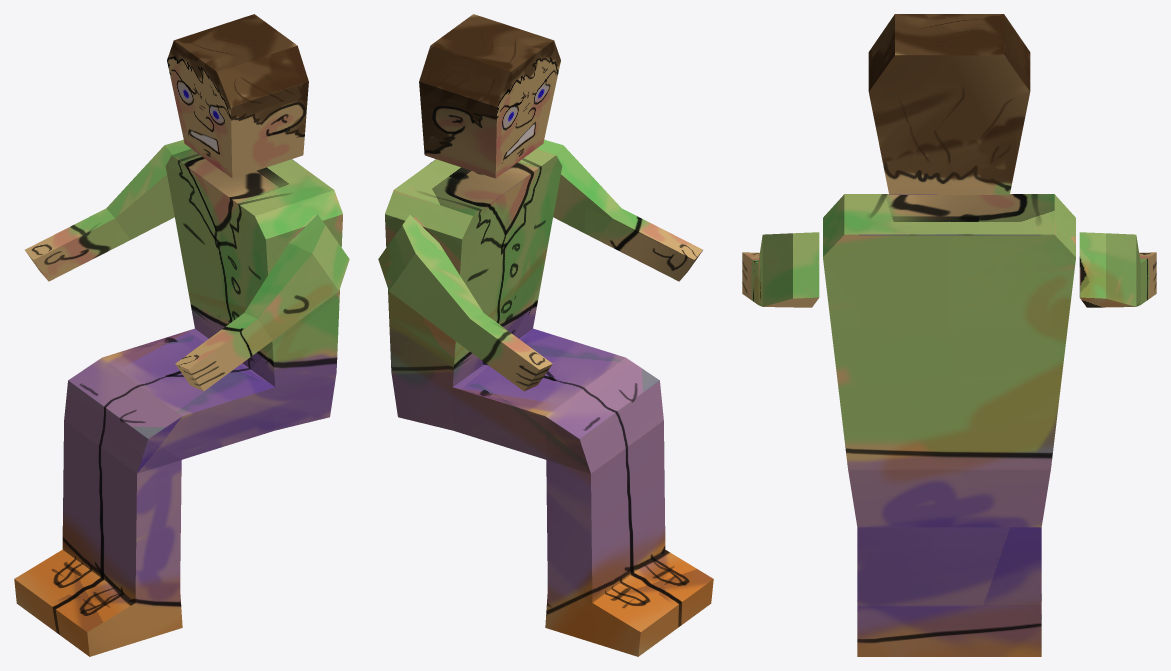
File: humanSit.dae
The picture shows the model from 3 angles, left to right: view 1: azimuth 30°, elevation 25°; view 2: azimuth 150°, elevation 25°; view 3: azimuth 270°, elevation 25°; orthographic projection. The views are drawn at different scales.
Visible parts, largest first — view 1: Player_011; view 2: Player_011; view 3: Player_011.
Boxes of the visible parts, x1,y1,x2,y2 form: Player_011: [14, 14, 349, 656]; Player_011: [378, 14, 713, 656]; Player_011: [742, 14, 1156, 656].
Size of the model in its own units: 1.41 by 1.62 by 2.98.
Materials: 1 (1 with a texture image).
